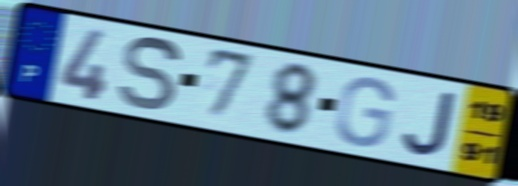4: (55, 23, 110, 105)
7: (203, 44, 261, 127)
8: (263, 61, 320, 138)
G: (332, 74, 397, 150)
J: (401, 88, 460, 159)
S: (116, 34, 185, 115)
